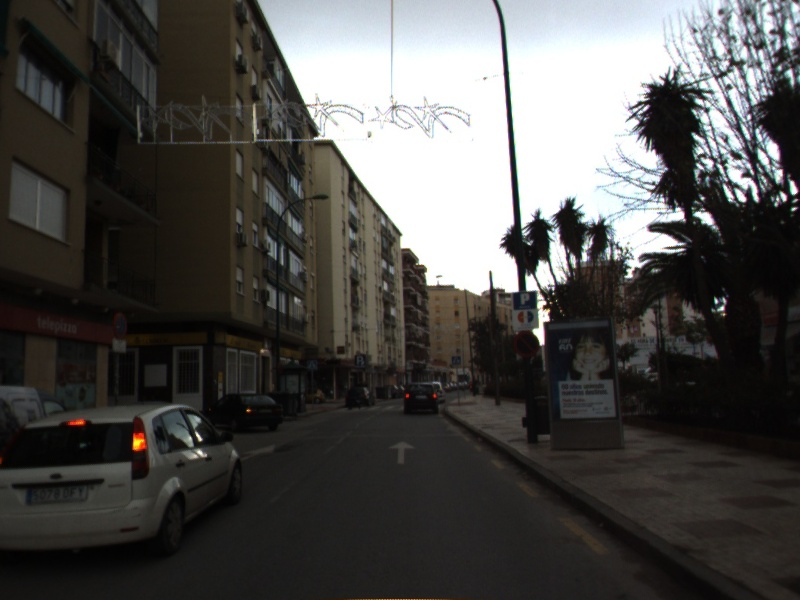STRAIGHT: (386, 438, 419, 466), (239, 441, 279, 463)
